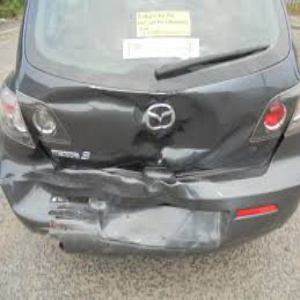bumper: (10, 160, 228, 257)
